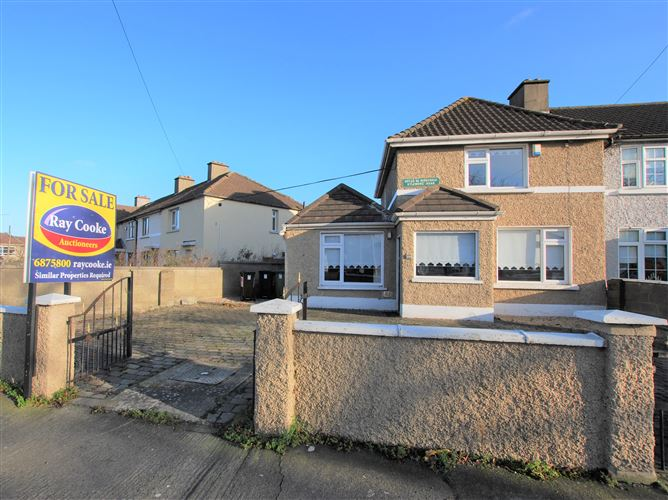property sign: (18, 153, 129, 296)
